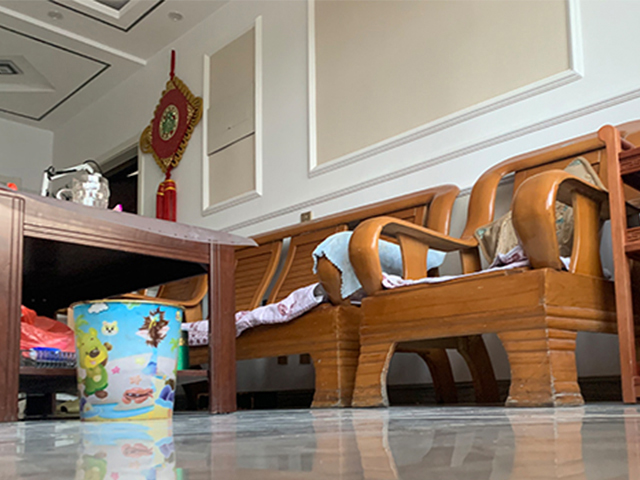sofa: (349, 120, 640, 409), (231, 179, 463, 408)
table: (1, 181, 239, 415)
trashcan: (72, 298, 185, 423)
